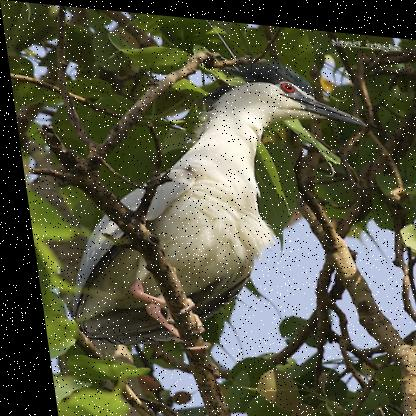Burung: (26, 39, 396, 367)
